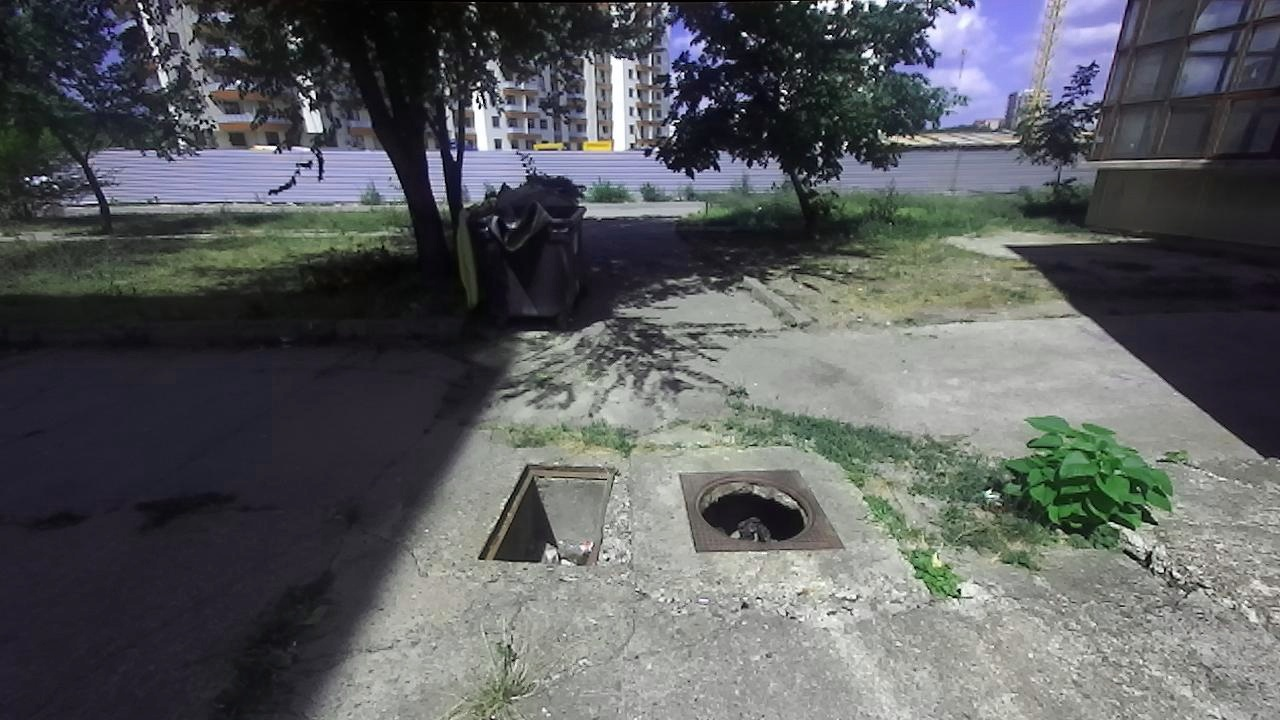drain: (477, 460, 618, 572), (691, 471, 820, 545)
